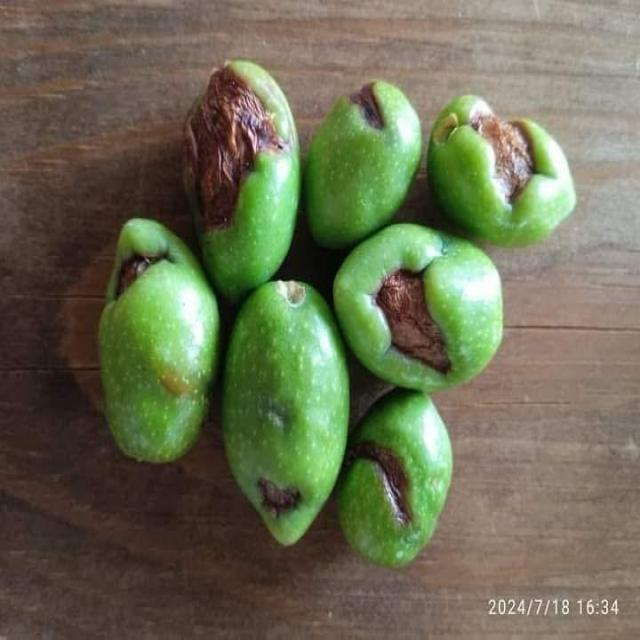Olive Fruit Fly: (223, 282, 349, 545), (100, 219, 220, 462), (334, 224, 501, 392), (186, 60, 300, 301), (428, 96, 575, 245), (338, 392, 452, 565), (305, 79, 420, 247)
